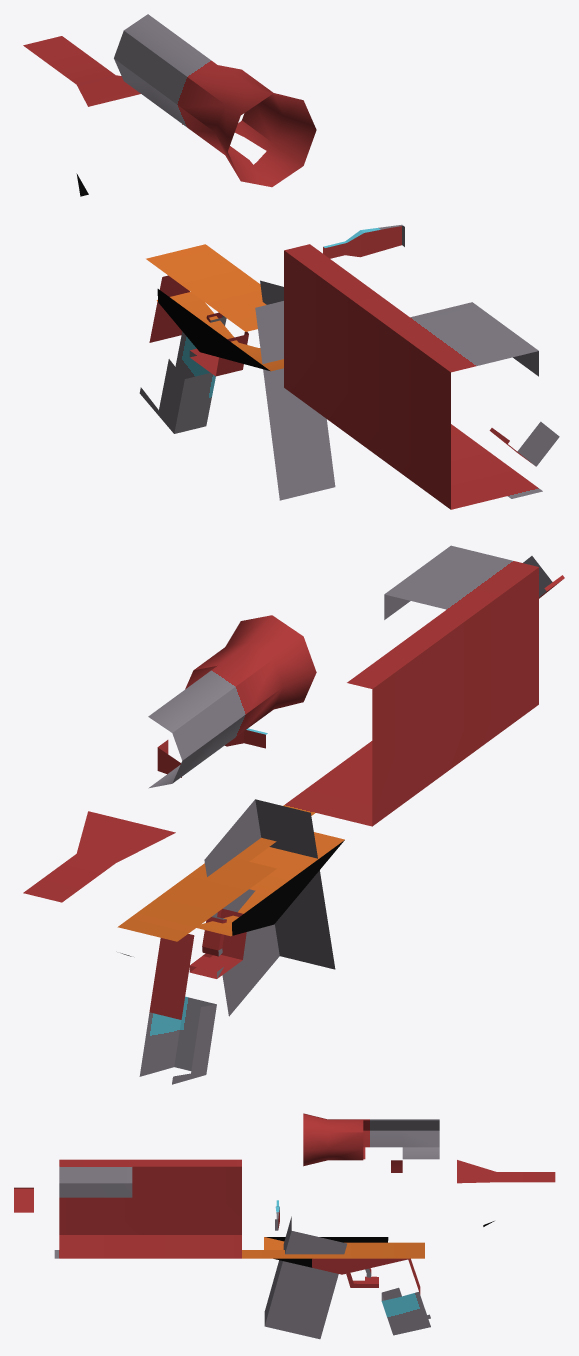
Rendered from sniper.fbx.
The picture shows the model from 3 angles, top to bottom: view 1: azimuth 30°, elevation 25°; view 2: azimuth 150°, elevation 25°; view 3: azimuth 270°, elevation 25°; orthographic projection. The views are drawn at different scales.
Parts seen in each view (by area): view 1: Cube, Cube.002, Cube.001, Cube.003; view 2: Cube, Cube.002, Cube.003; view 3: Cube, Cube.002, Cube.003.
Part boxes in pixels (box(x1,y1,x2,y2)): Cube: box(23, 14, 559, 509); Cube.002: box(255, 280, 335, 500); Cube.001: box(323, 224, 404, 258); Cube.003: box(189, 312, 248, 376); Cube: box(23, 545, 564, 1084); Cube.002: box(204, 799, 335, 1016); Cube.003: box(189, 908, 246, 978); Cube: box(14, 1113, 555, 1335); Cube.002: box(264, 1216, 346, 1339); Cube.003: box(346, 1268, 378, 1287).
Bounding box in the file's own units: 13.38 × 33.89 × 77.
